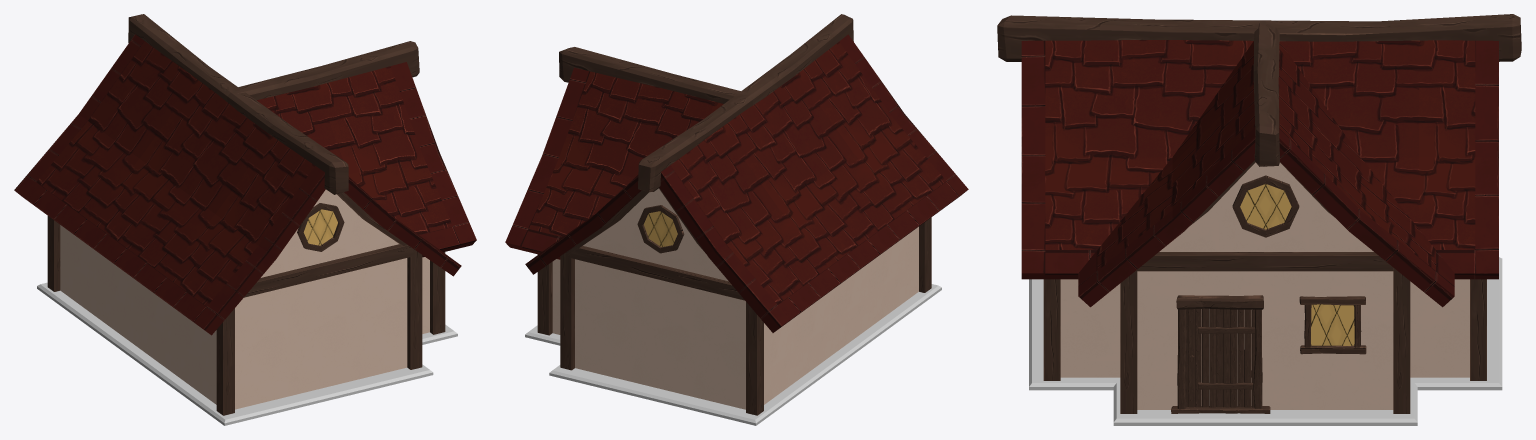
The model's file is HouseB.fbx.
The picture shows the model from 3 angles, left to right: view 1: azimuth 30°, elevation 25°; view 2: azimuth 150°, elevation 25°; view 3: azimuth 270°, elevation 25°; orthographic projection. The views are drawn at different scales.
Parts seen in each view (by area): view 1: House.006; view 2: House.006; view 3: House.006.
Boxes of the visible parts, bbox=[...] form: House.006: bbox=[14, 14, 476, 425]; House.006: bbox=[505, 14, 968, 425]; House.006: bbox=[997, 14, 1521, 425].
Size of the model in its own units: 10.68 by 7.99 by 12.3.
